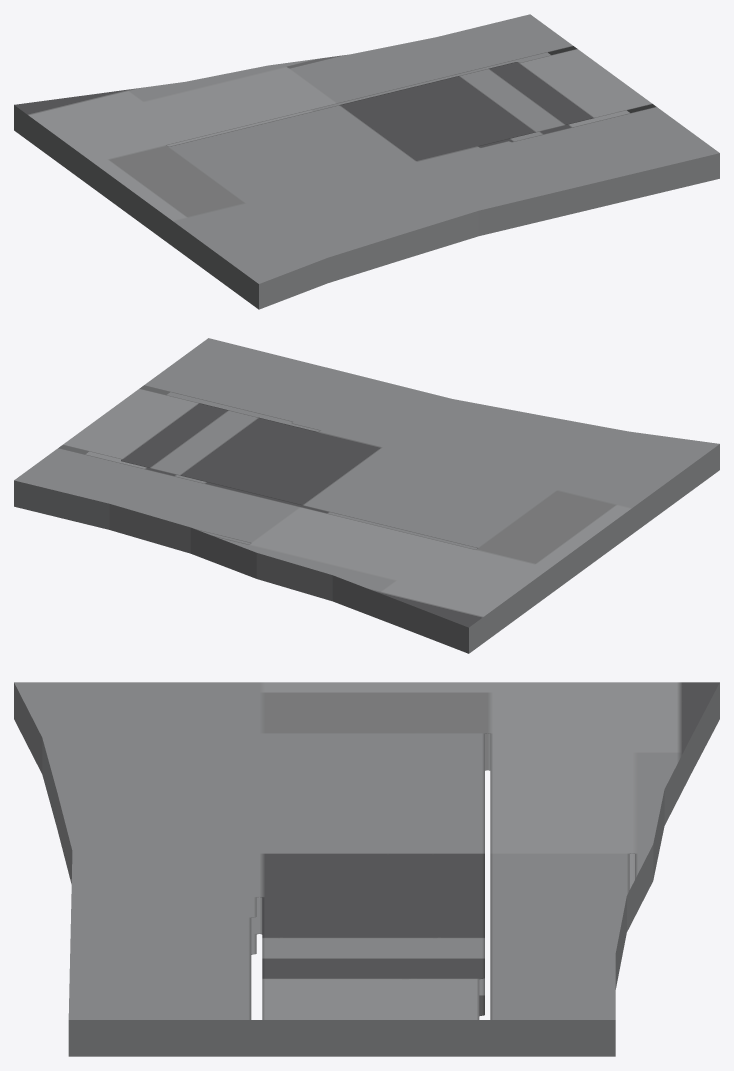
3 renders of one model, top to bottom at view 1: azimuth 30°, elevation 25°; view 2: azimuth 150°, elevation 25°; view 3: azimuth 270°, elevation 25°, orthographic. The views are drawn at different scales.
Bounding box in the file's own units: 1.02 × 0.0519 × 0.9004.
